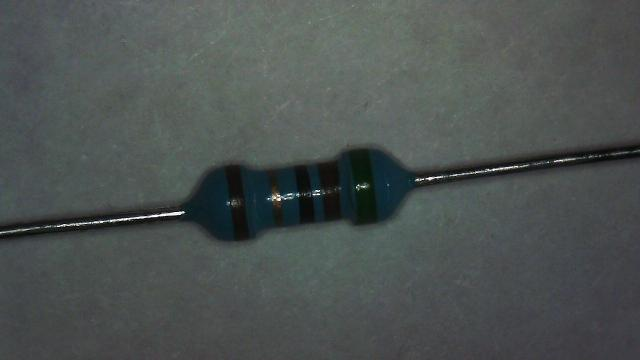black: (294, 165, 314, 222)
brown: (225, 166, 248, 239), (317, 162, 340, 219)
gold: (267, 170, 284, 226)
green: (350, 149, 378, 224)
resistor: (182, 138, 418, 246)
